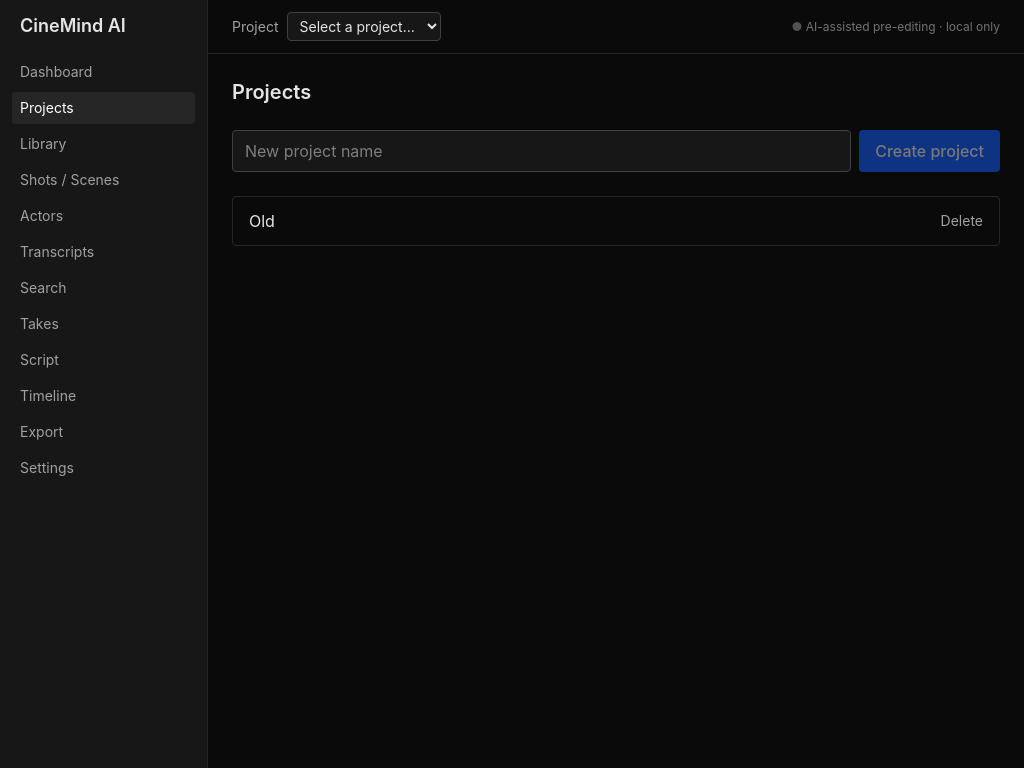
Test case: deletes a project after confirmation
Click the button with aria-label "Delete Old" at (962, 221), box [941, 211, 983, 231]
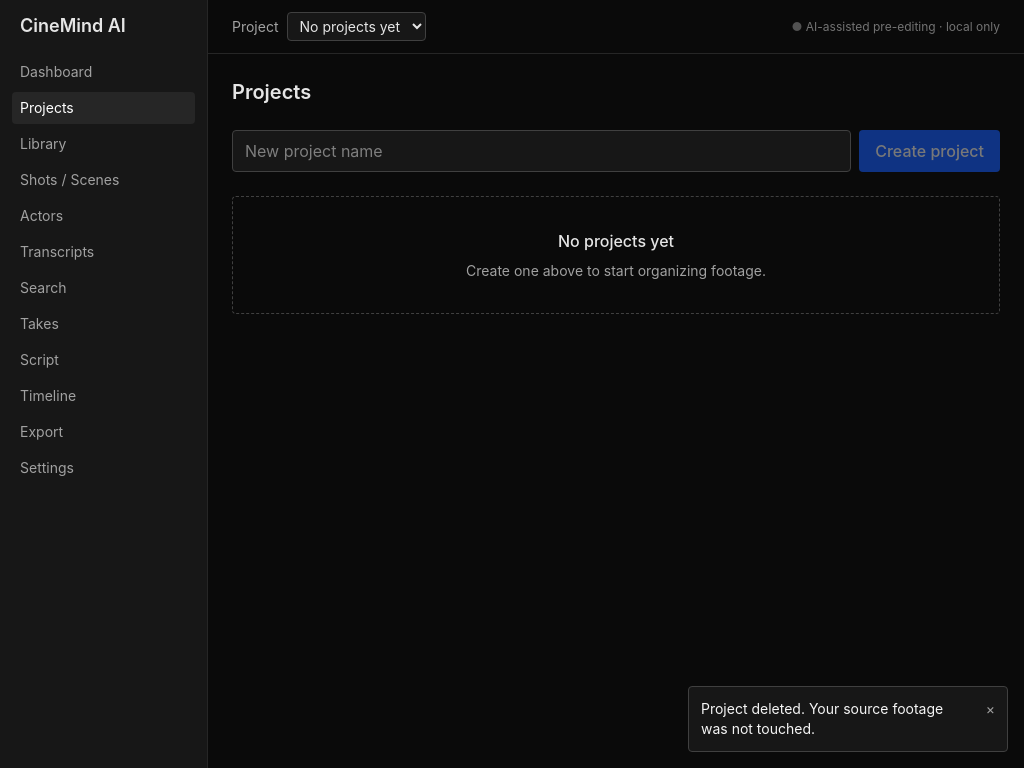
Result: the link "Old" is gone
